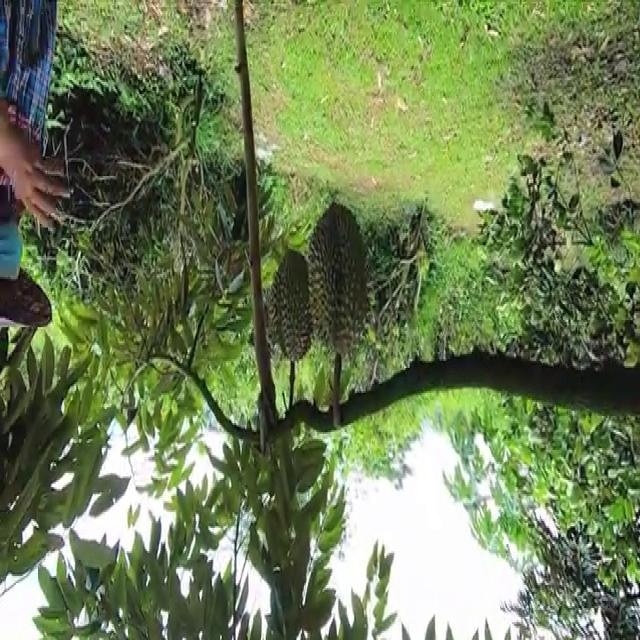durian: (306, 200, 371, 369), (265, 240, 322, 370)
